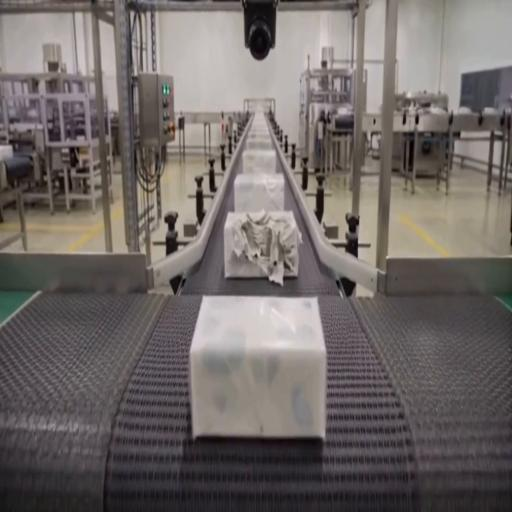defective: (224, 210, 302, 282)
good: (190, 295, 326, 442), (233, 172, 284, 214), (242, 149, 280, 180)
